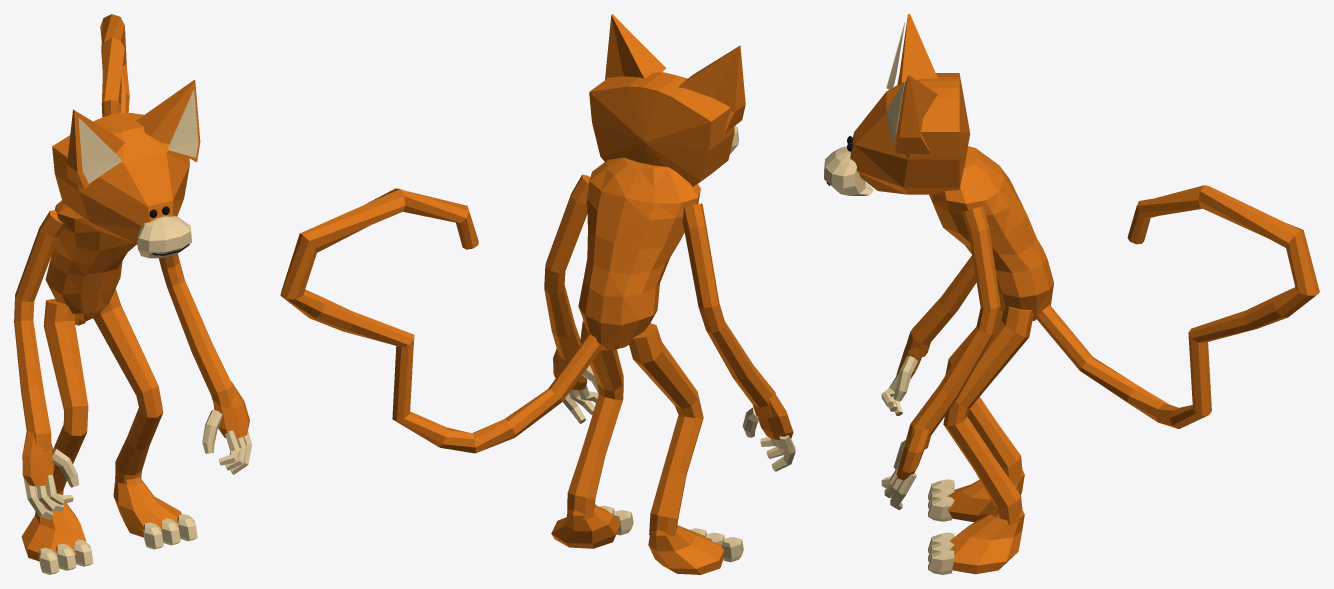
Rendered from cat.glb.
3 renders of one model, left to right at view 1: azimuth 30°, elevation 25°; view 2: azimuth 150°, elevation 25°; view 3: azimuth 270°, elevation 25°, orthographic. The views are drawn at different scales.
Parts seen in each view (by area): view 1: GEO-Cat; view 2: GEO-Cat; view 3: GEO-Cat.
Boxes of the visible parts, left/top/right/bottom form: GEO-Cat: left=14, top=14, right=251, bottom=574; GEO-Cat: left=280, top=14, right=795, bottom=574; GEO-Cat: left=824, top=14, right=1319, bottom=574.
Size of the model in its own units: 1.65 by 2.52 by 2.31.
